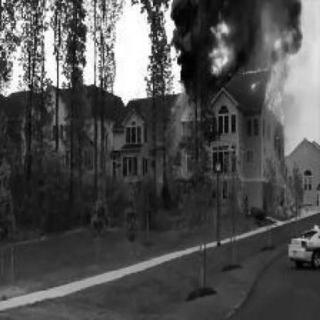Fire: (263, 23, 303, 124), (236, 65, 266, 89)
Smoke: (164, 0, 224, 93), (227, 0, 265, 62)
